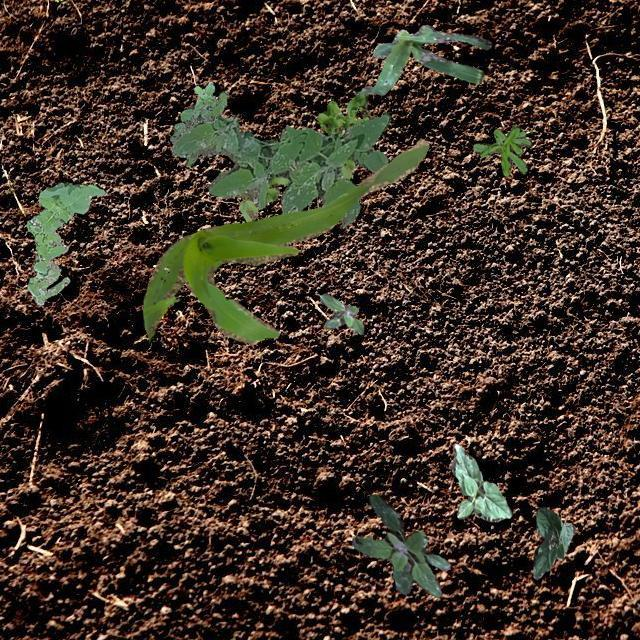crop: (142, 140, 428, 343), (356, 24, 491, 94), (450, 442, 510, 520), (532, 506, 574, 578)
weed: (172, 111, 390, 228), (235, 92, 374, 222), (351, 494, 448, 596), (26, 182, 104, 304), (168, 80, 226, 166), (472, 124, 530, 176), (318, 292, 362, 332)
